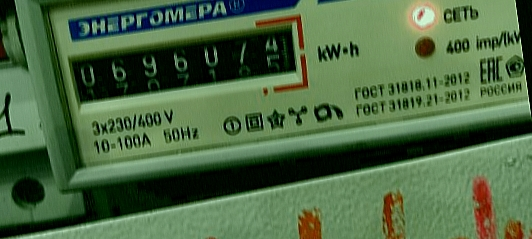0: (78, 59, 99, 87), (202, 40, 222, 68)
4: (264, 30, 281, 53)
5: (267, 52, 283, 73)
6: (109, 54, 130, 81), (172, 44, 191, 73)
7: (233, 36, 253, 64)
9: (140, 50, 161, 78)
screen: (61, 10, 316, 120)
